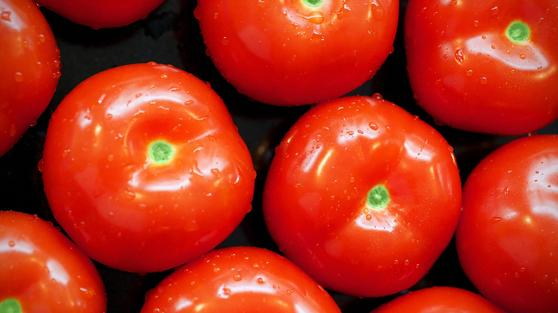tomato: (42, 65, 256, 271), (265, 92, 463, 300)
